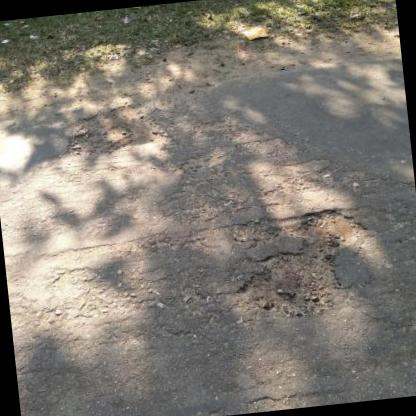pothole: (233, 244, 346, 324), (57, 98, 172, 160), (294, 202, 368, 251)
